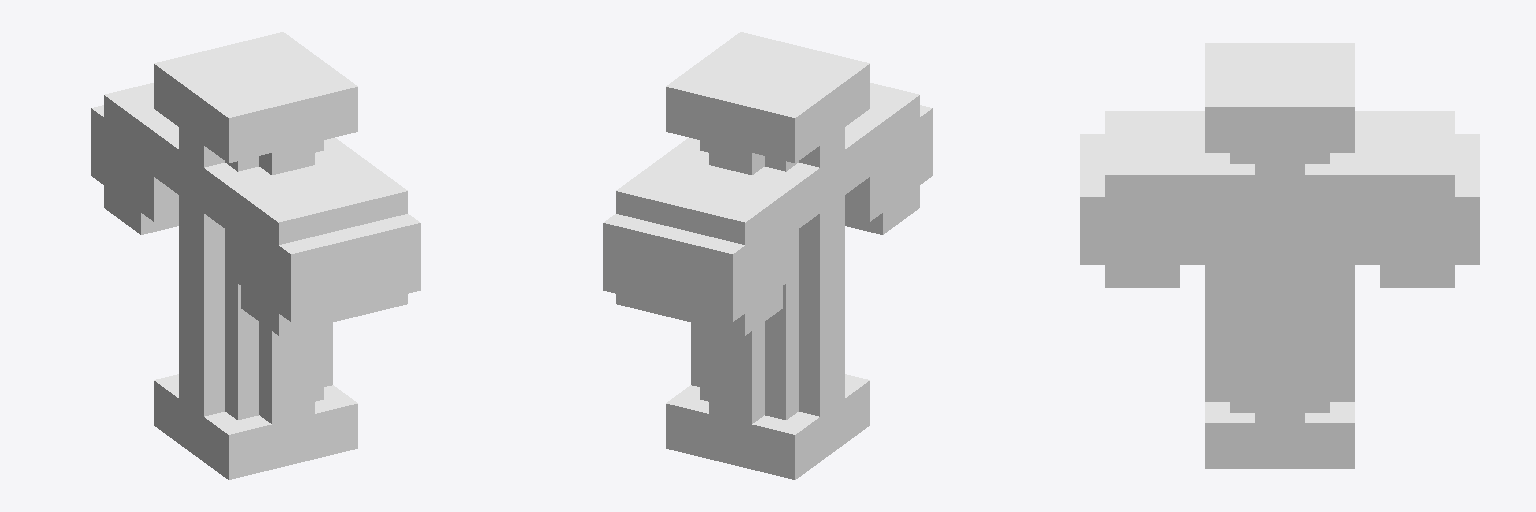
File: MuseumIcon.obj
3 renders of one model, left to right at view 1: azimuth 30°, elevation 25°; view 2: azimuth 150°, elevation 25°; view 3: azimuth 270°, elevation 25°, orthographic.
Visible parts, largest first — view 1: object 1; view 2: object 1; view 3: object 1.
Boxes of the visible parts, x1=… form: object 1: x1=91, y1=32, x2=420, y2=479; object 1: x1=603, y1=32, x2=932, y2=479; object 1: x1=1080, y1=43, x2=1479, y2=468.
Size of the model in its own units: 0.6 by 1.6 by 1.6.